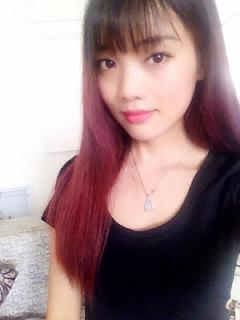short sleeve top: (40, 148, 240, 319)
